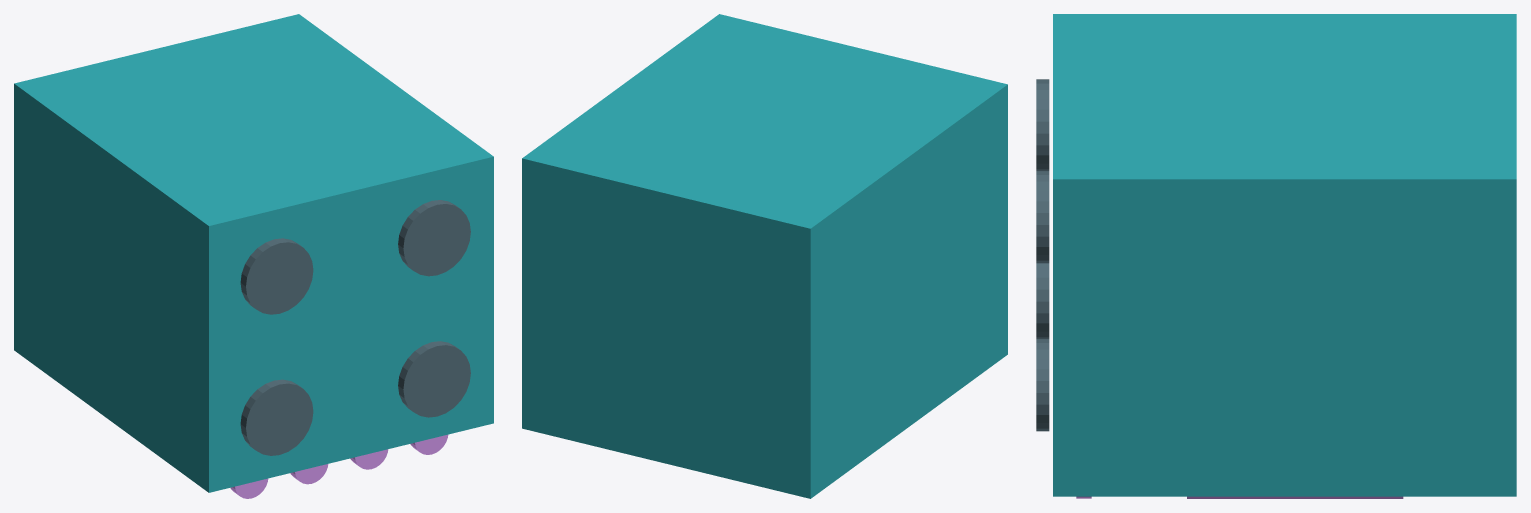
Rendered from range-oven.glb.
The picture shows the model from 3 angles, left to right: view 1: azimuth 30°, elevation 25°; view 2: azimuth 150°, elevation 25°; view 3: azimuth 270°, elevation 25°; orthographic projection. The views are drawn at different scales.
Visible parts, largest first — view 1: world; view 2: world; view 3: world.
Boxes of the visible parts, x1=… form: world: x1=14, y1=14, x2=493, y2=498; world: x1=522, y1=14, x2=1007, y2=498; world: x1=1036, y1=14, x2=1516, y2=498.
Size of the model in its own units: 0.76 by 0.745 by 0.9325.
